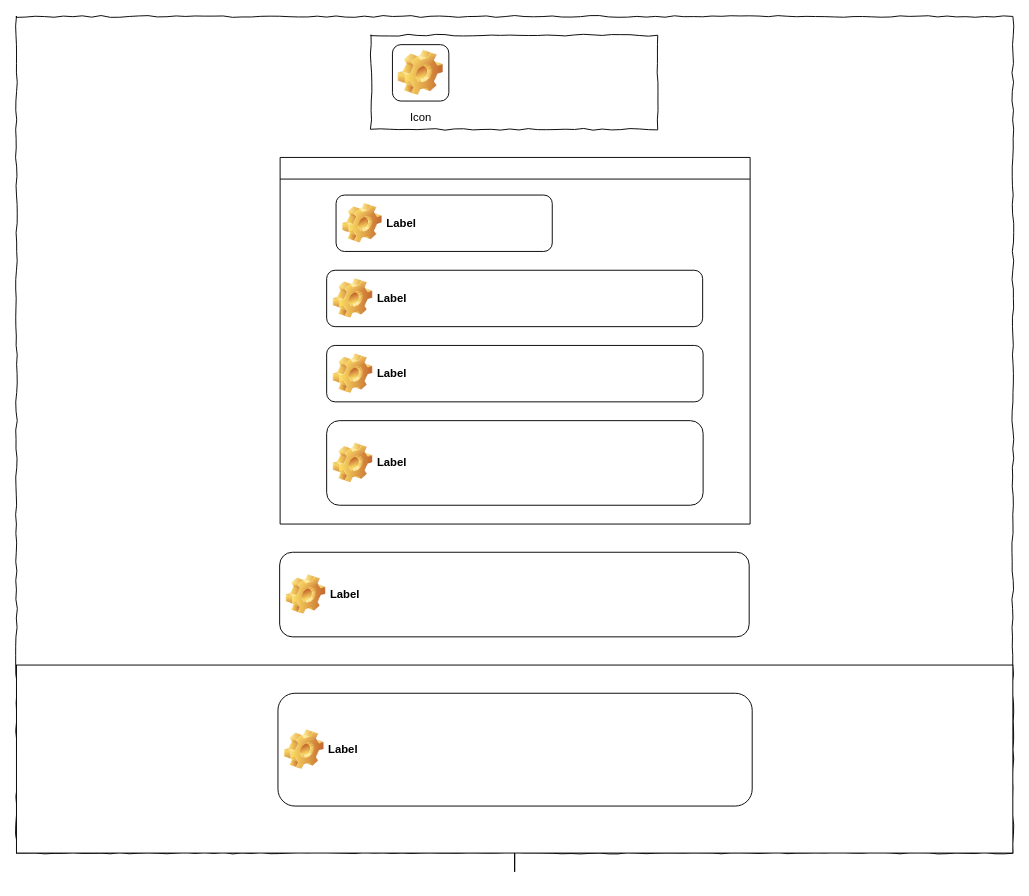
Image size: 1029x896. Some labels were removed from this diagram. Each missing label, with the box of its shape:
Container: (279, 157, 750, 524)
LOGO: (370, 34, 658, 129)
